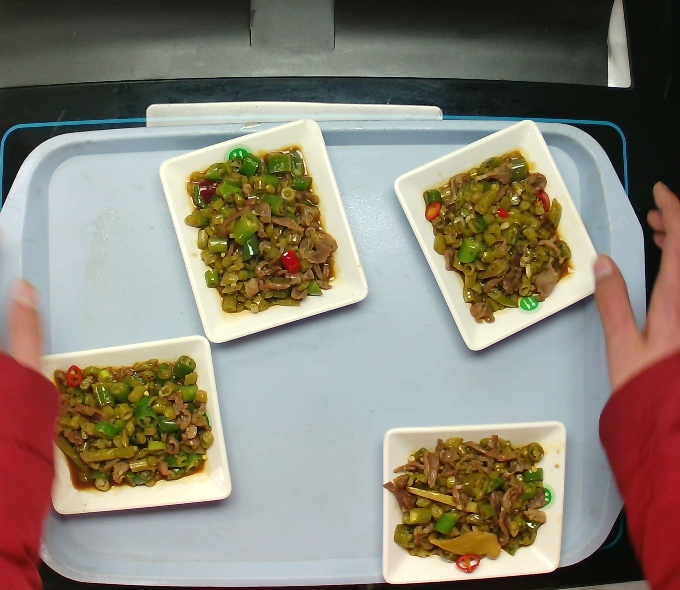wcq-SuanDouJiaoChaoJiZhen: (184, 145, 343, 321), (416, 148, 575, 324), (49, 350, 218, 496), (384, 432, 553, 578)
